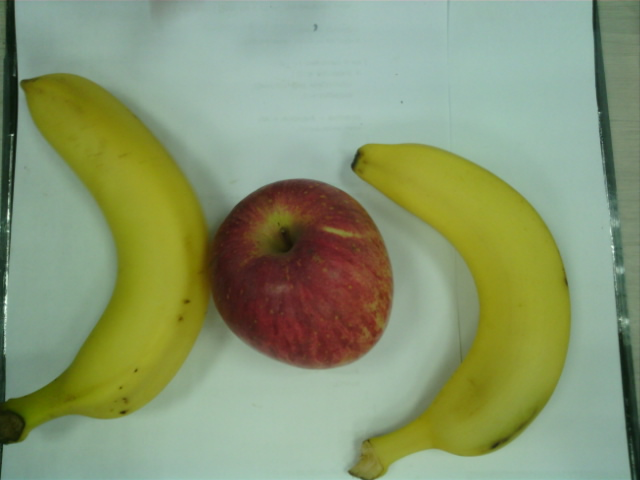normal_apple: (209, 180, 394, 369)
normal_banana: (354, 143, 569, 480), (21, 73, 204, 417)
